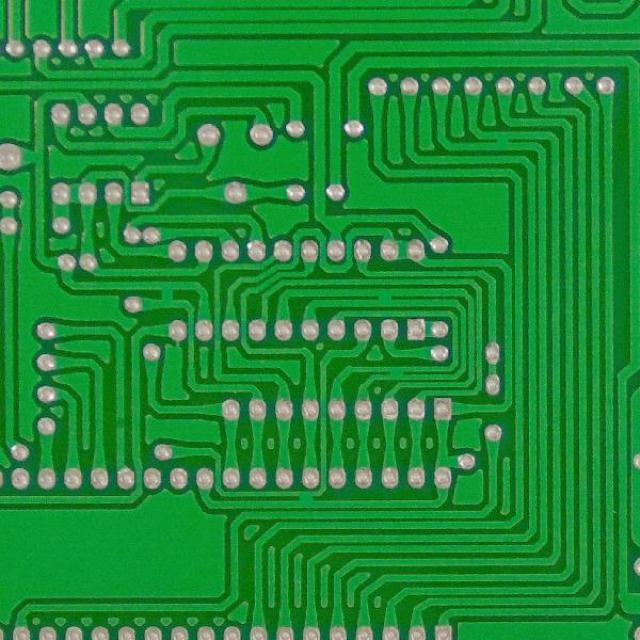Short_Circuit: (152, 277, 182, 314), (489, 126, 515, 155), (371, 284, 399, 310), (291, 486, 319, 511), (384, 362, 409, 383)
